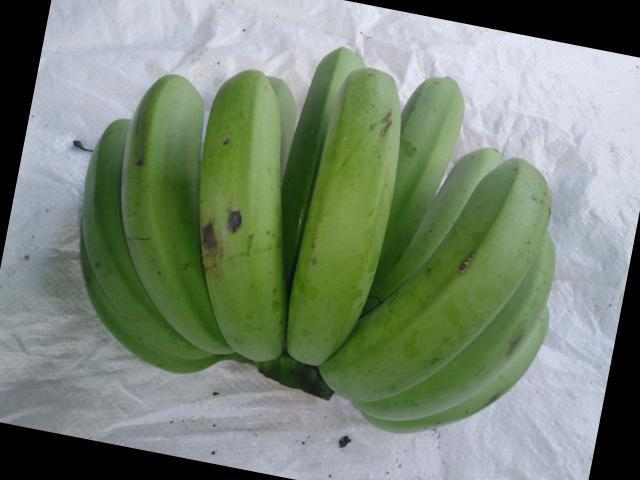unripe: (336, 156, 558, 424), (281, 62, 413, 406), (120, 54, 237, 398), (195, 54, 306, 377)
